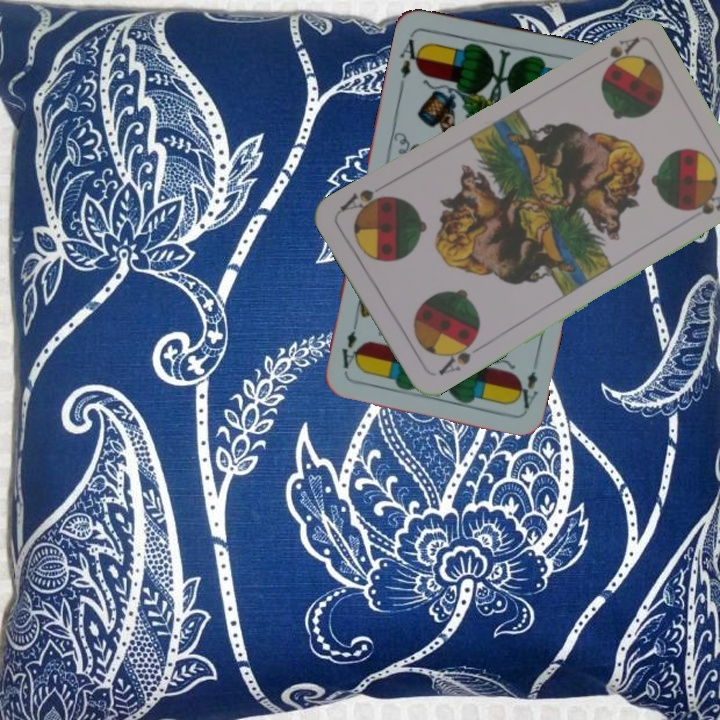EA: (396, 30, 426, 89), (511, 367, 541, 411)
SA: (434, 333, 479, 378), (600, 34, 641, 72)
